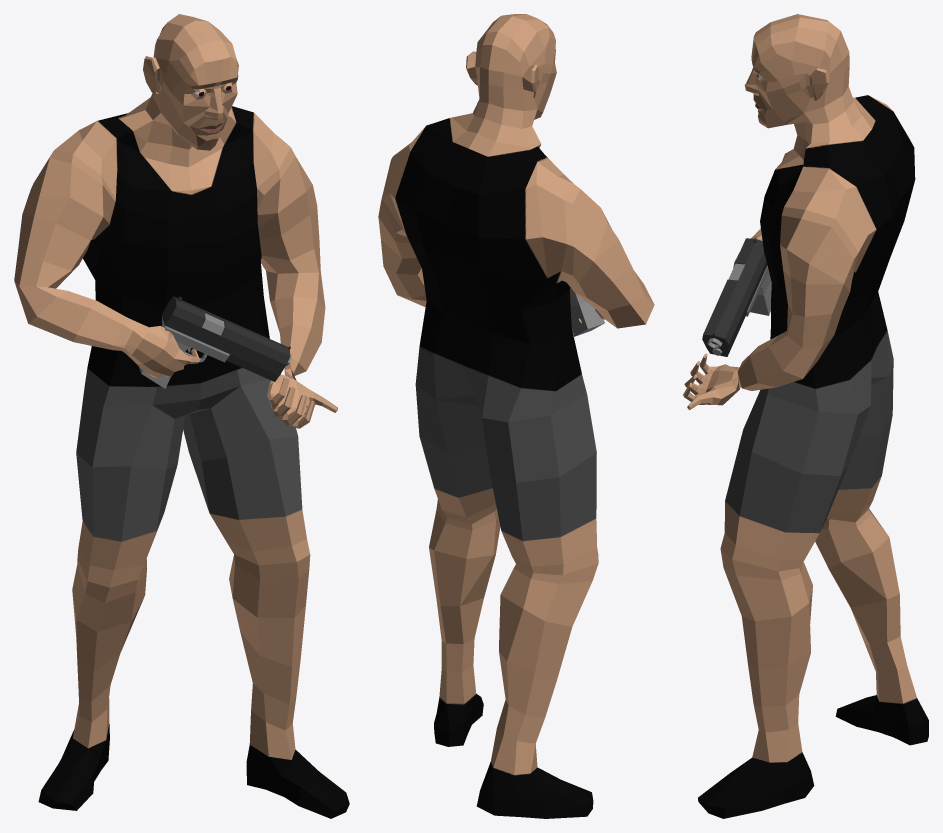
The model's file is PlayerIdle(198).obj.
The picture shows the model from 3 angles, left to right: view 1: azimuth 30°, elevation 25°; view 2: azimuth 150°, elevation 25°; view 3: azimuth 270°, elevation 25°; orthographic projection. The views are drawn at different scales.
Visible parts, largest first — view 1: Plane002, Box003; view 2: Plane002, Box003; view 3: Plane002, Box003.
Part boxes in pixels (box(x1,y1,x2,y2)): Plane002: box(14, 14, 349, 818); Box003: box(139, 296, 291, 388); Plane002: box(378, 14, 654, 818); Box003: box(569, 287, 604, 336); Plane002: box(683, 14, 928, 818); Box003: box(702, 238, 771, 356).
Bounding box in the file's own units: 685 × 1798 × 536.
